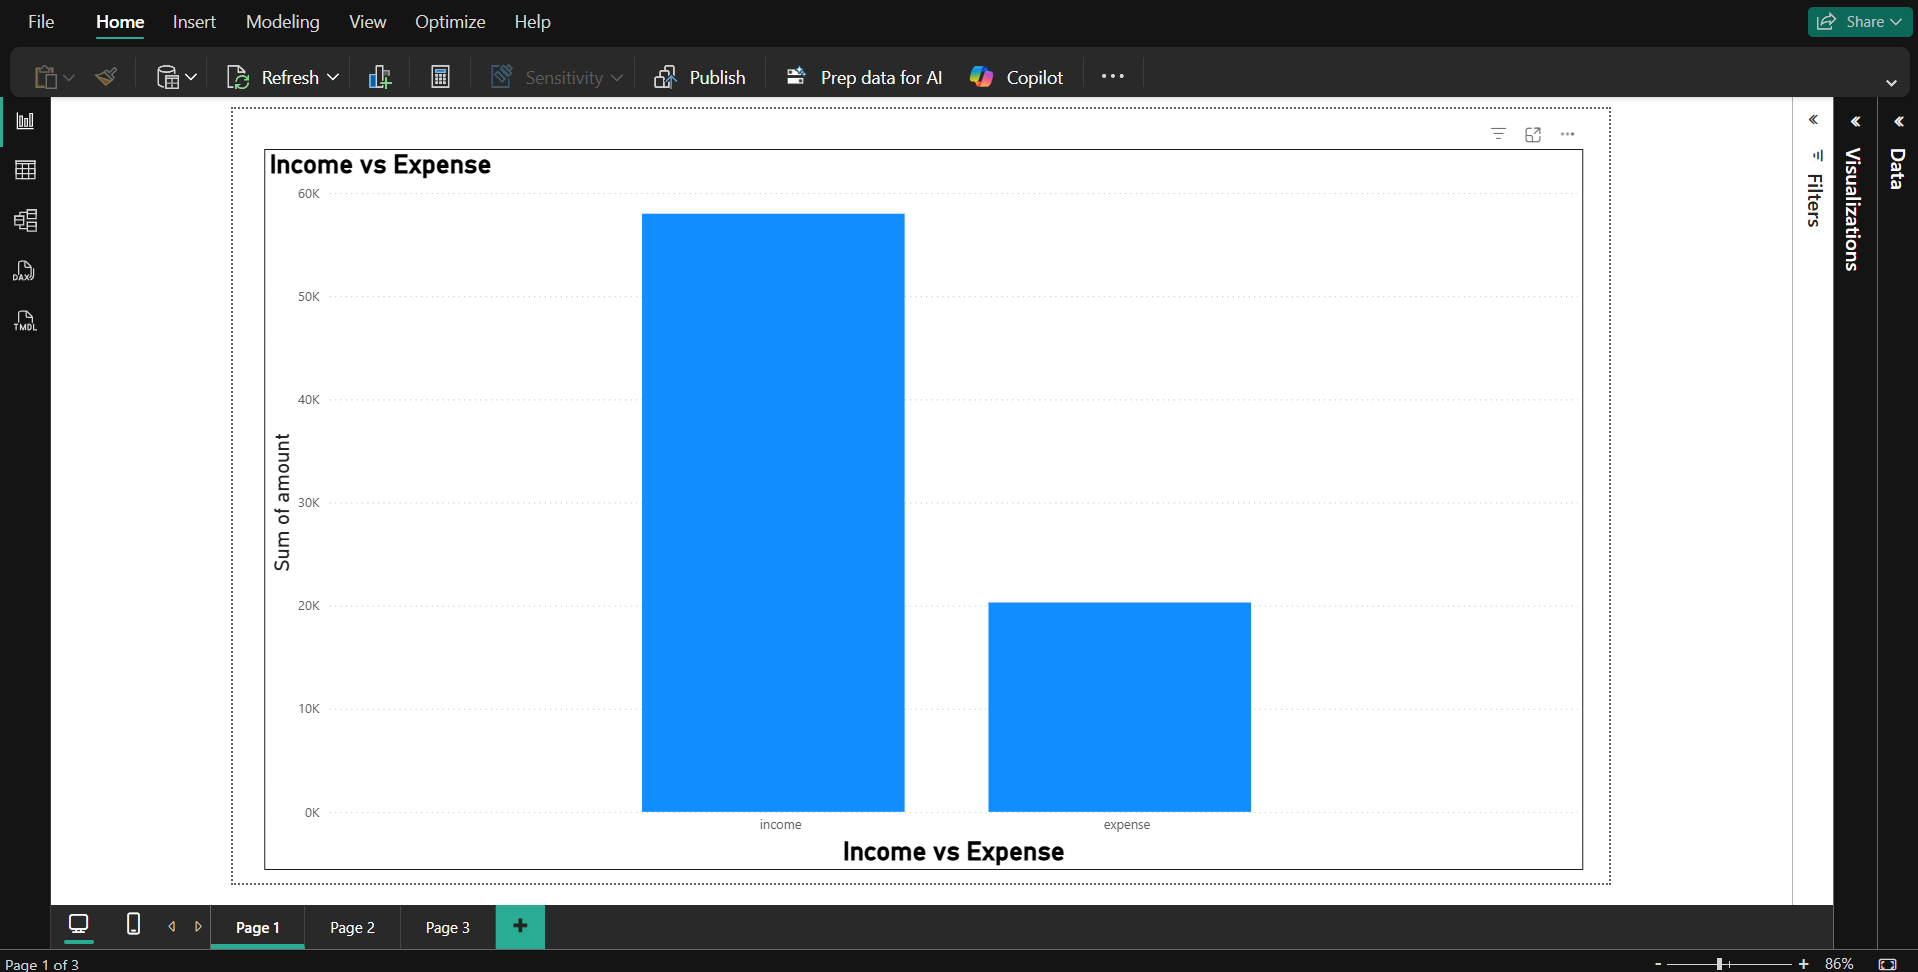

What the dashboard file says about the page in this screenshot:
{"tool":"powerbi","page":{"name":"Page 1","canvas":[1280,720],"ordinal":0},"visuals":[{"type":"clusteredColumnChart","title":"Income vs Expense","fields":{"Category":["finance.type"],"Y":["Sum(finance.amount)"]},"box":[28.8,37,1226.8,671],"z":0}]}

Visuals, with their boxes on the page's 1280x720 design canvas (x1, y1, x2, y2). These are canvas units, not pixel positions in the 1918x972 screenshot, which may show the page scaled, cropped or inside an application window:
"Income vs Expense" clusteredColumnChart: left=29, top=37, right=1256, bottom=708
